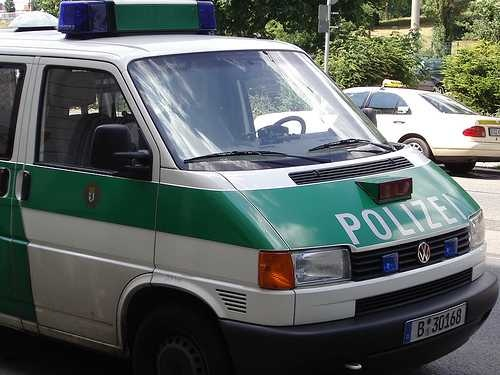Police Van: (0, 0, 491, 361)
